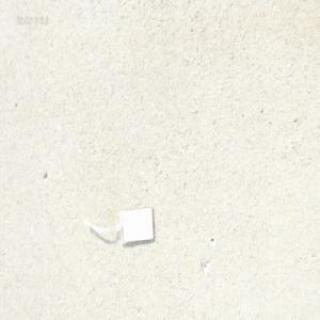LuggageTagtrack_idkeyframe: (82, 204, 157, 248)
